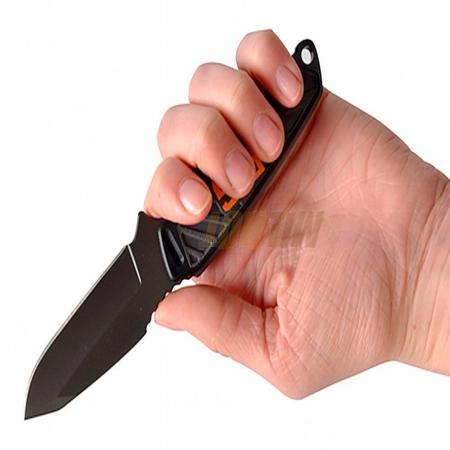long weapon: (22, 25, 330, 425)
